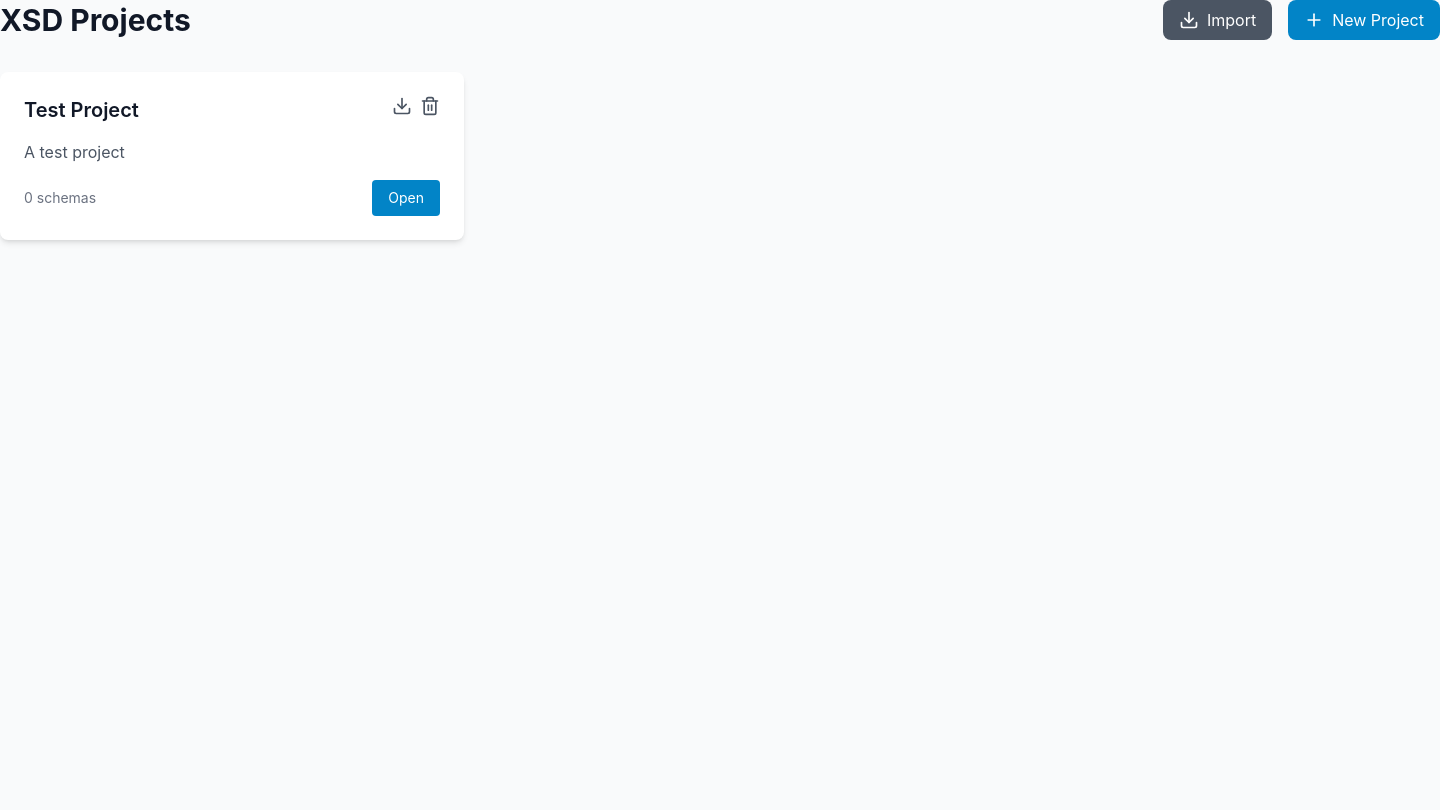
it: HomePage › deletes a project when confirmed
What coordinates should you click on to do the following:
click the button titled "Delete"
I would click on:
 (430, 106)
Its box is [420,96,440,116].
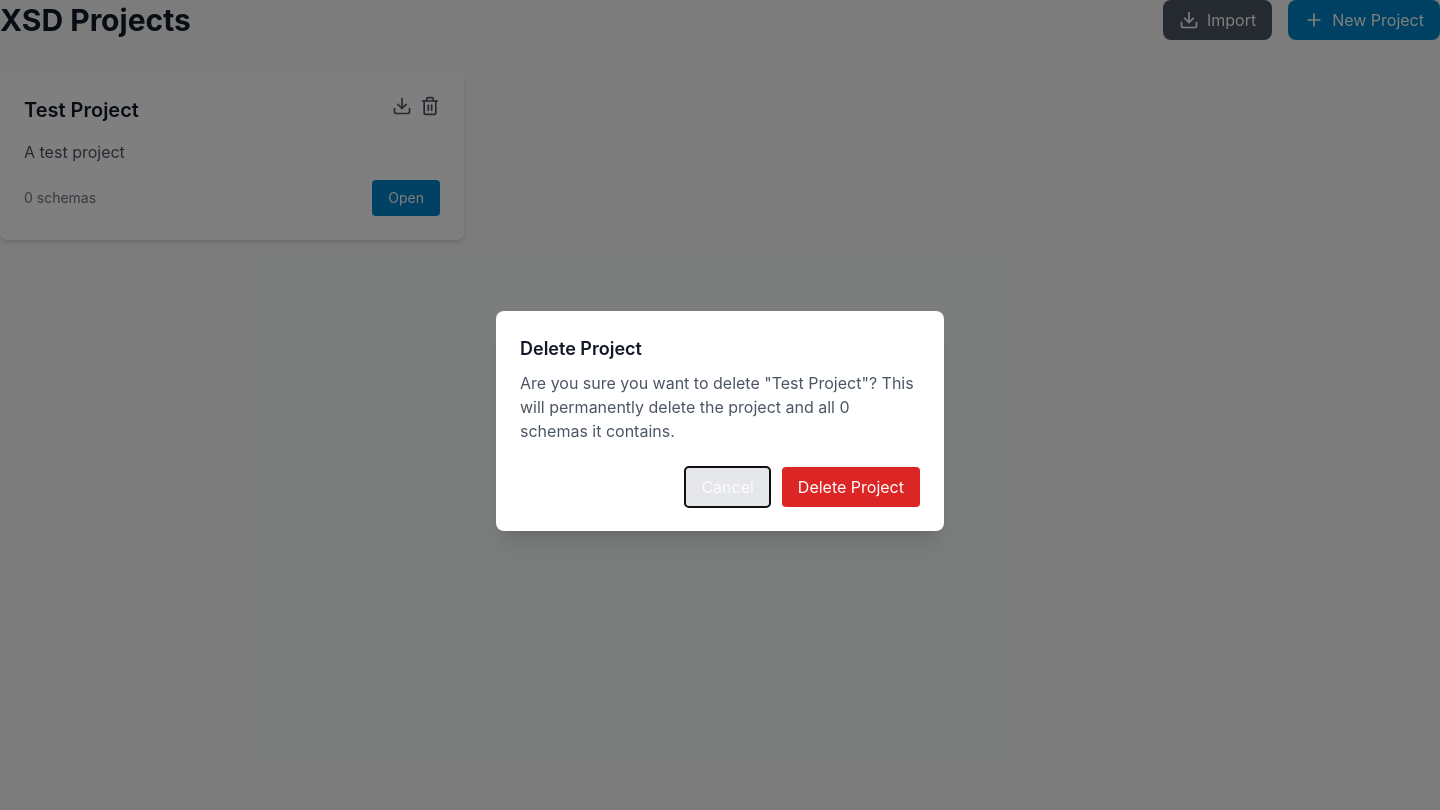
What coordinates should you click on to do the following:
click the button with test id "confirm-button"
I would click on:
 (851, 487)
Its box is [782,467,920,507].
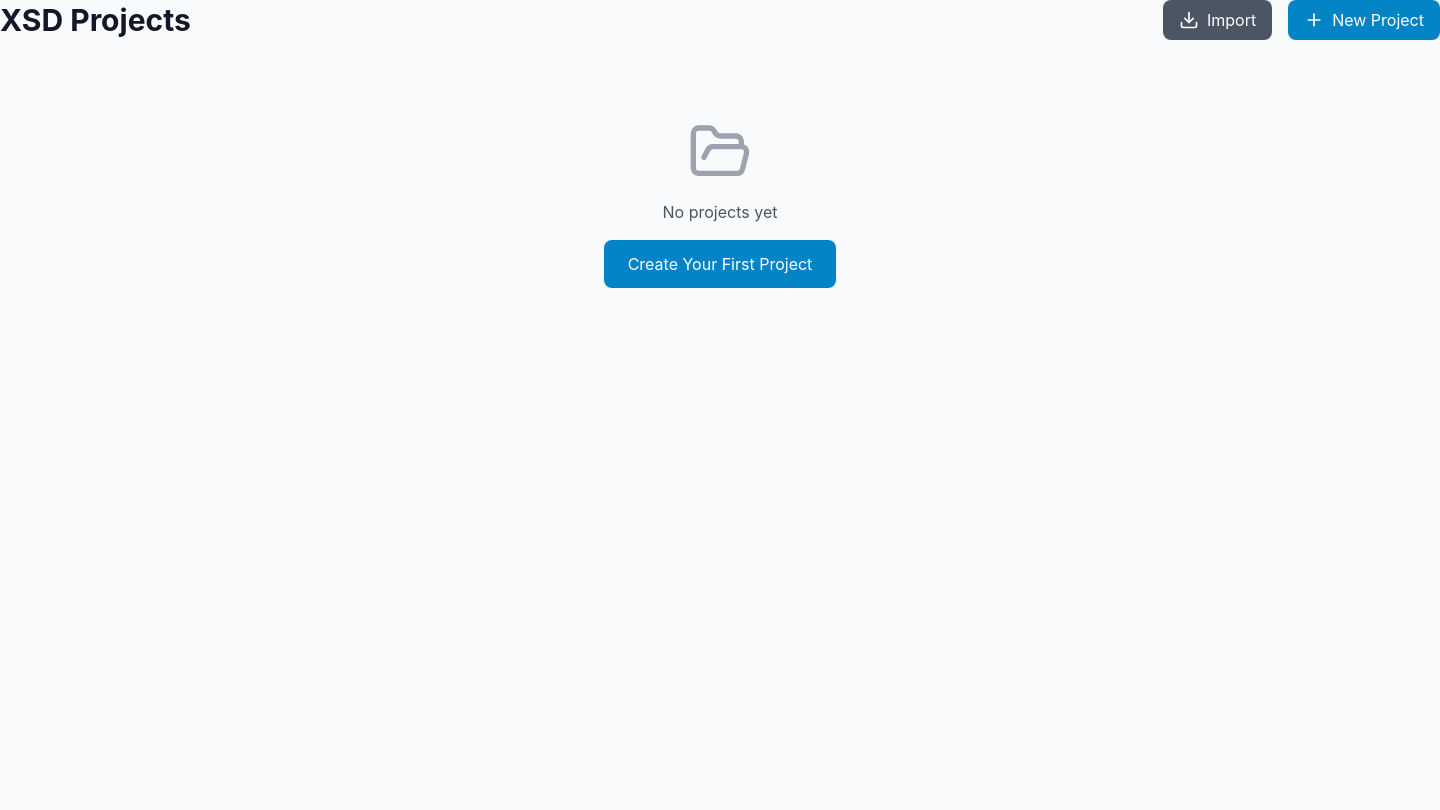
Result: the text "No projects yet" is shown at [662,202,777,222]
